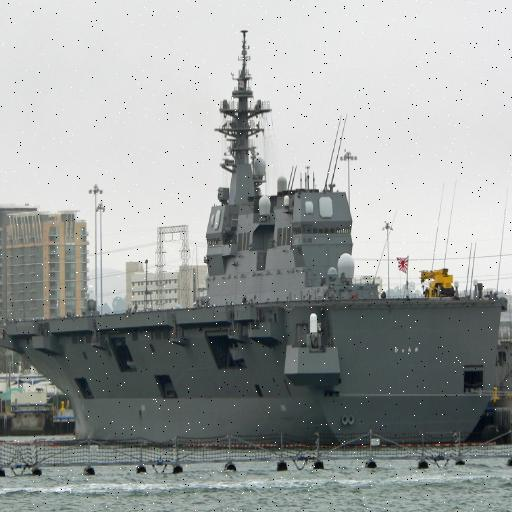Portanaves: (2, 33, 508, 453)
